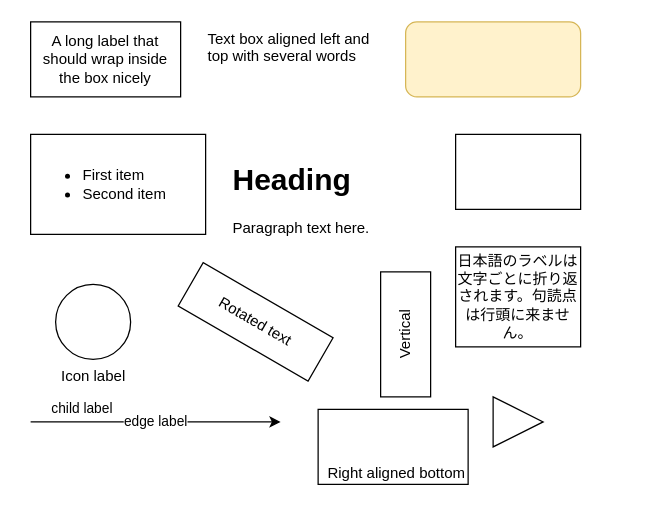
Some shapes in this 654 by 506 pixel diagram are drawn without their labels. Each missing label, with the centre of its shape:
Bold italic under red big: point (492, 59)
Label at right: point (517, 421)
Plain two lines: point (517, 171)
